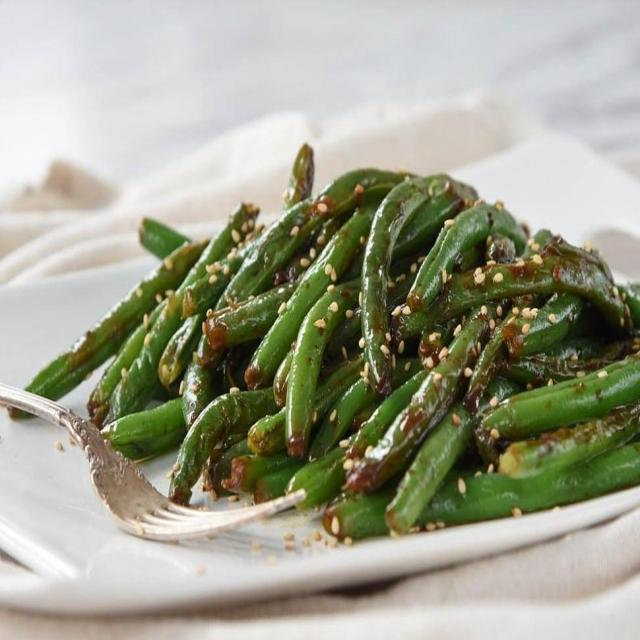Beans: (0, 129, 639, 563)
